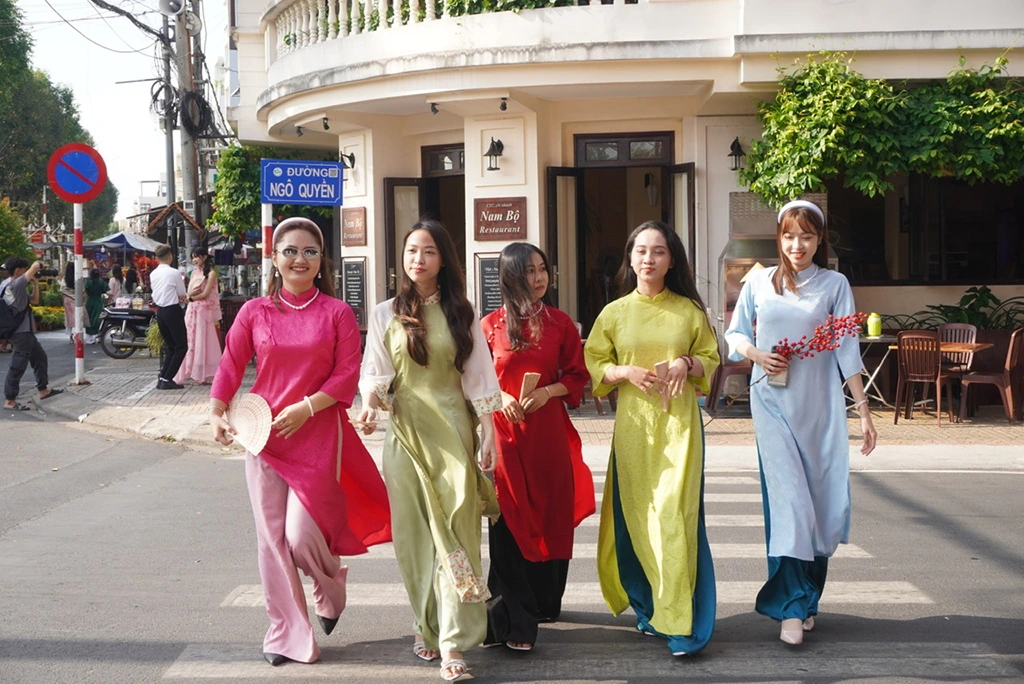human: (216, 217, 381, 668), (359, 212, 506, 684), (731, 195, 881, 652), (584, 216, 731, 663), (481, 240, 589, 650)
